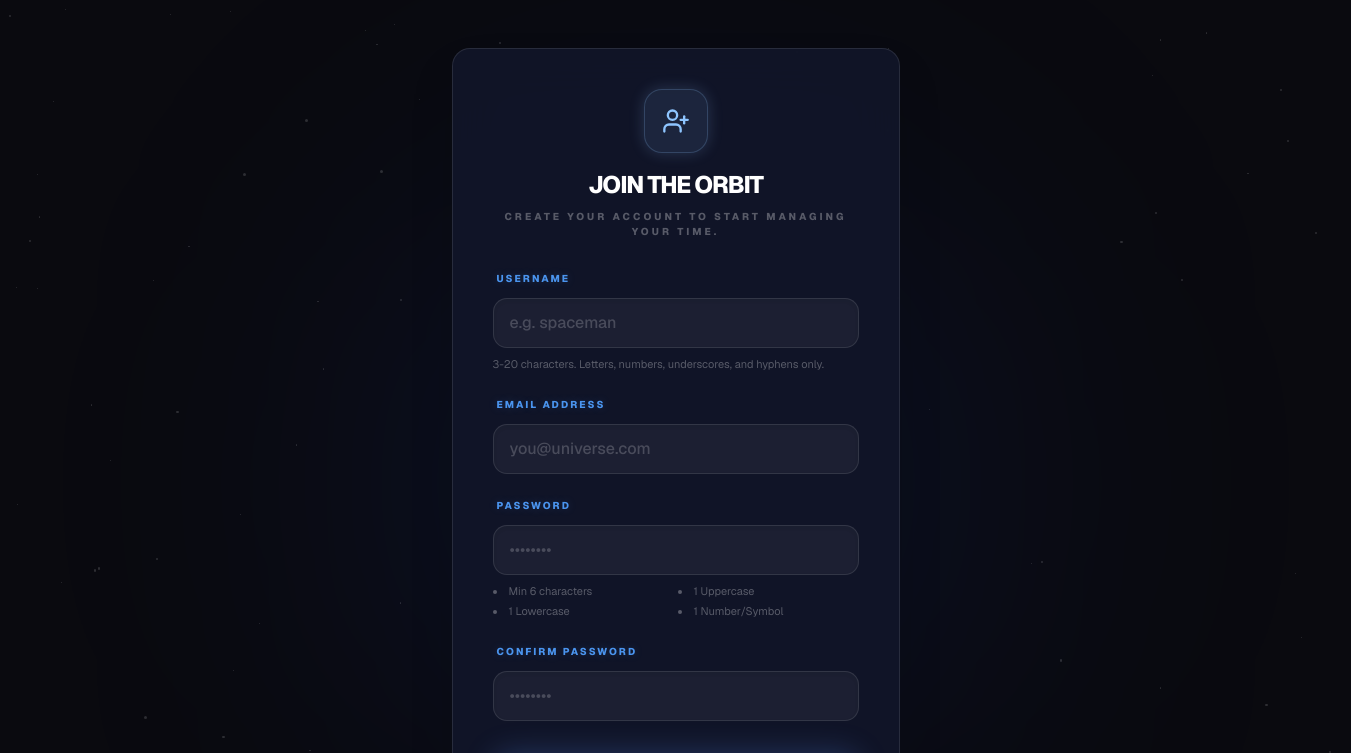
Test: RegisterPage Component › shows API error on failed registration
The width and height of the screenshot is (1366, 753).
Type "testuser" into the field with placeholder "e.g. spaceman".
click(676, 323); type("testuser")  # box [492,298,858,348]
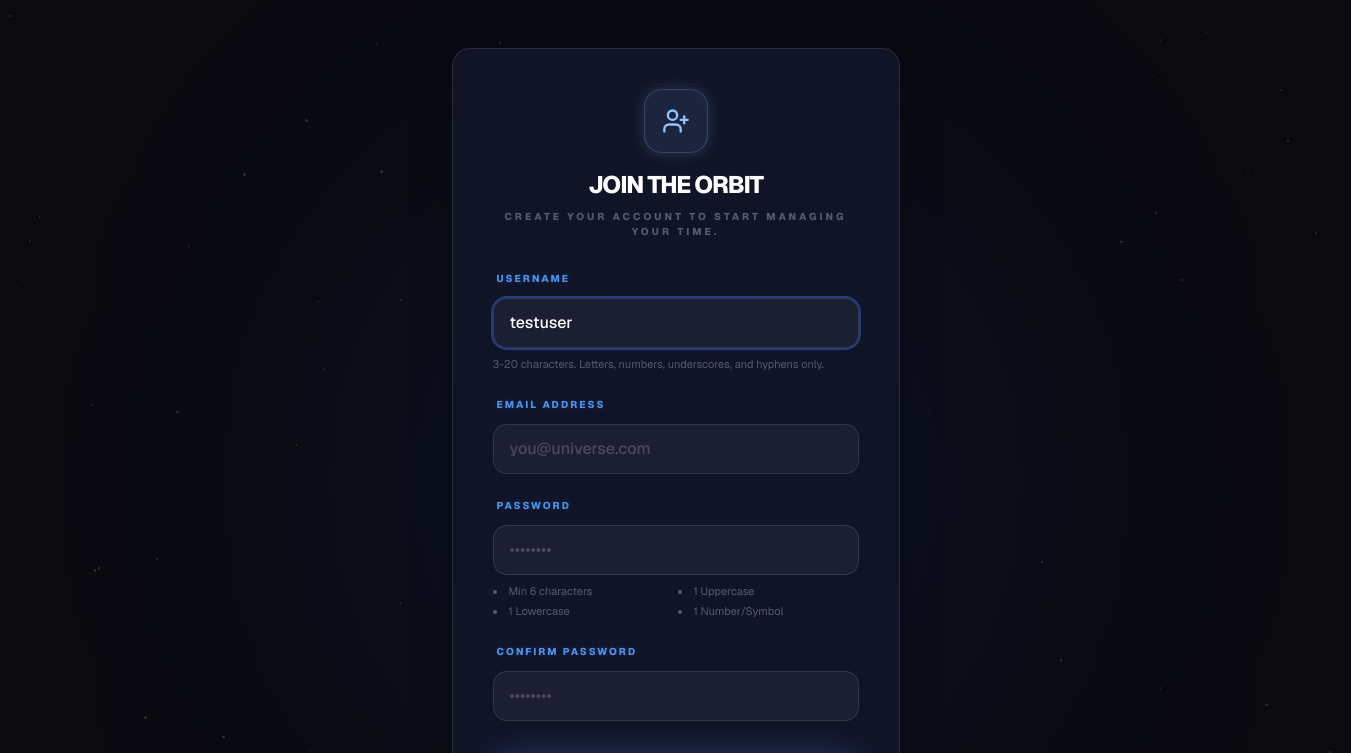
Type "test@example.com" into the field with placeholder "you@universe.com".
click(676, 448); type("test@example.com")  # box [492,424,858,474]
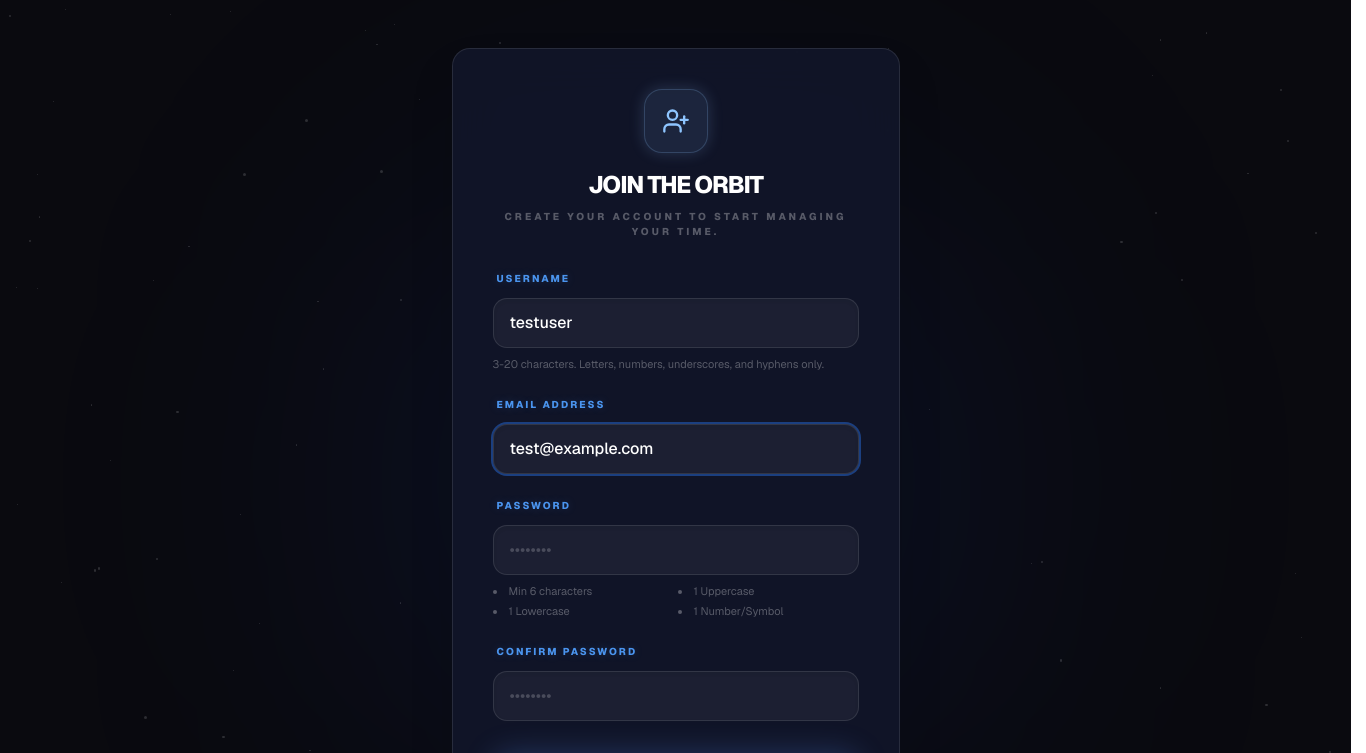
Type "Password123" into the 1st password field with placeholder "••••••••".
click(676, 550); type("Password123")  # box [492,524,858,574]
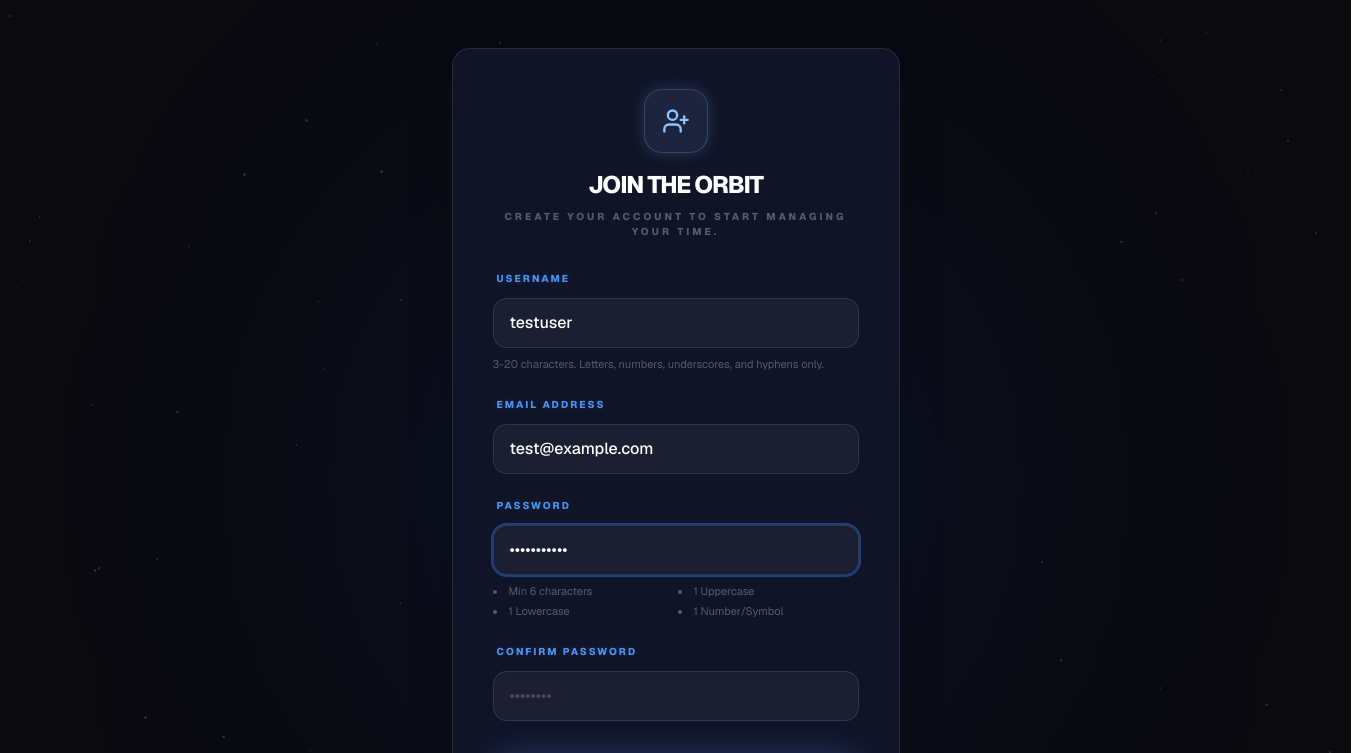
Type "Password123" into the password field with placeholder "••••••••".
click(676, 696); type("Password123")  # box [492,670,858,720]
(page scrolled)
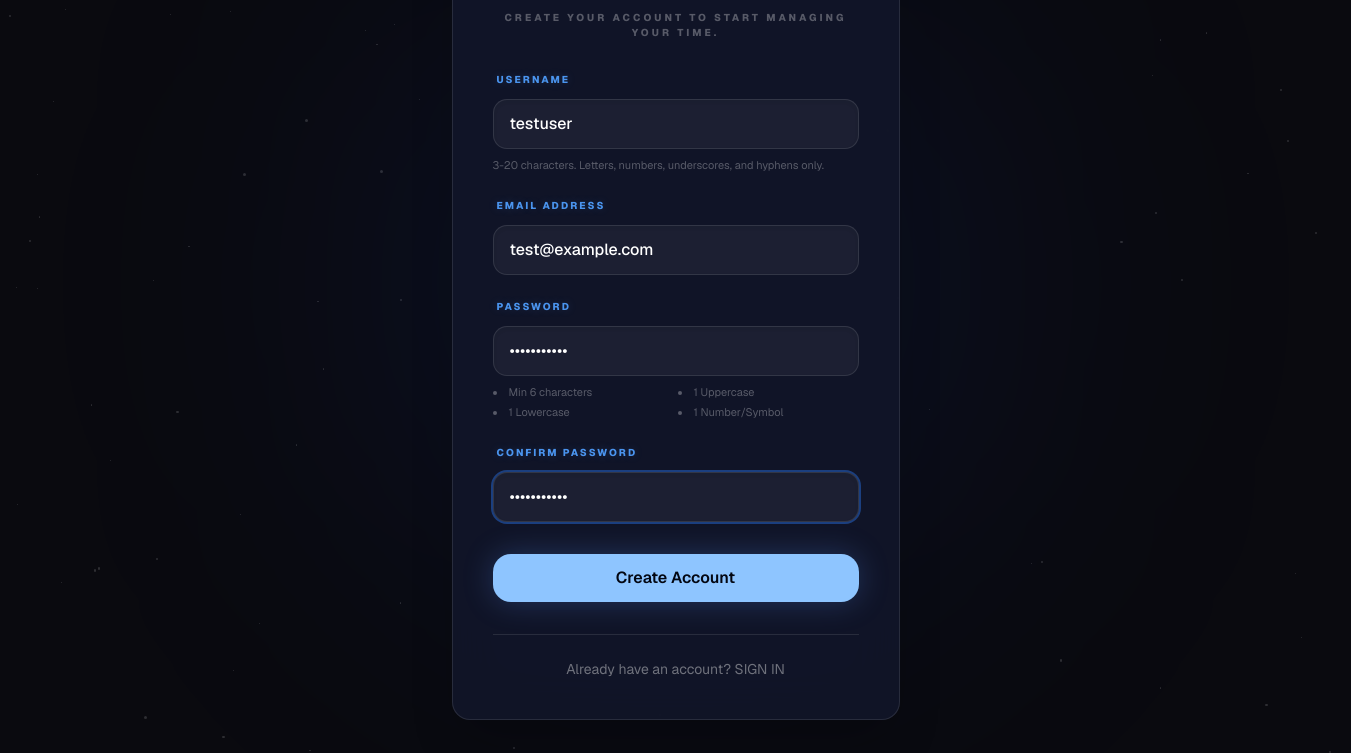
Click the button "Create Account".
click(676, 578)  # box [492,554,858,602]
(page scrolled)
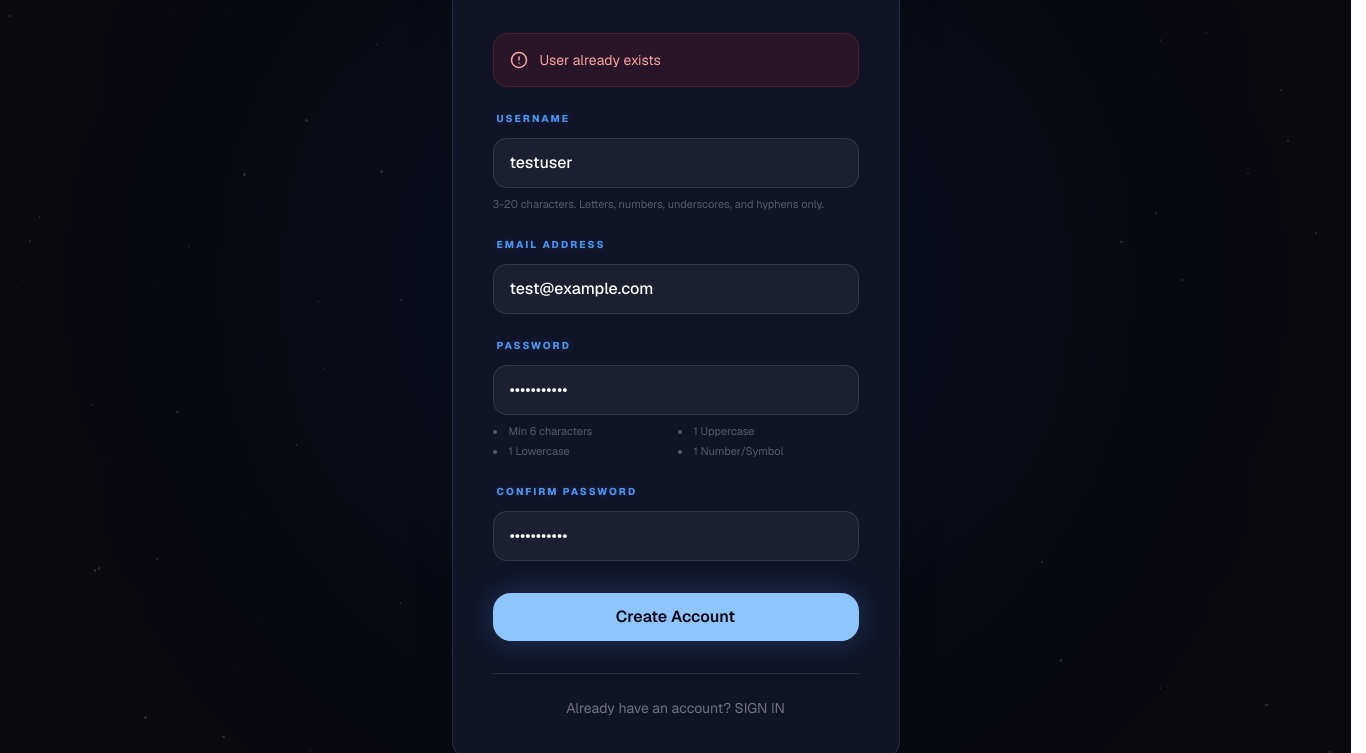
Expected: the text "User already exists" is shown, [540,50,661,70]
